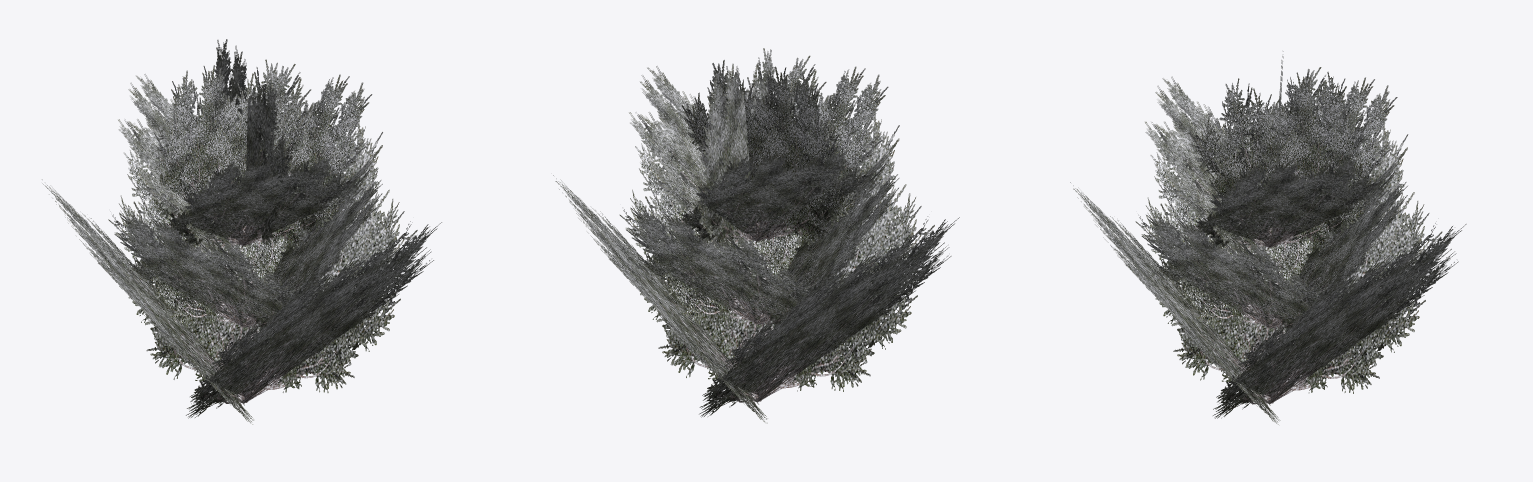
The model's file is Bush_1.fbx.
The picture shows the model from 3 angles, left to right: view 1: azimuth 30°, elevation 25°; view 2: azimuth 150°, elevation 25°; view 3: azimuth 270°, elevation 25°; orthographic projection. The views are drawn at different scales.
Parts seen in each view (by area): view 1: Bush1; view 2: Bush1; view 3: Bush1.
Boxes of the visible parts, box(x1,y1,x2,y2) form: Bush1: box(42, 39, 441, 424); Bush1: box(553, 48, 959, 423); Bush1: box(1070, 51, 1466, 424).
Size of the model in its own units: 308 by 245 by 308.
Materials: 1 (1 with a texture image).
